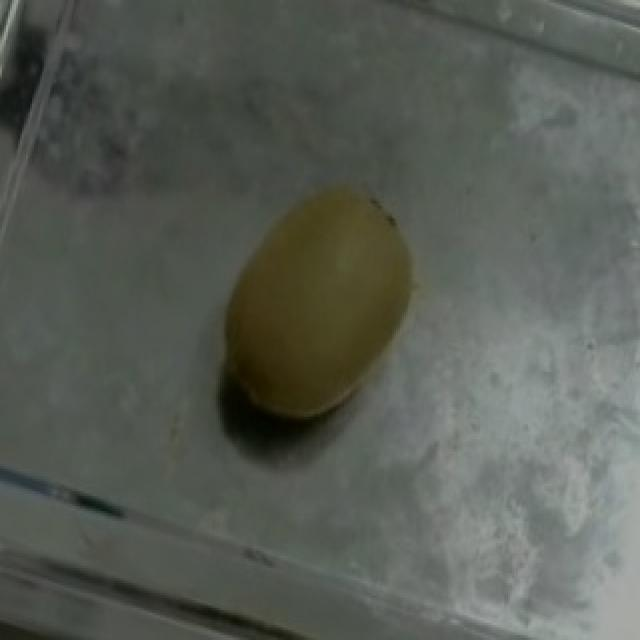Fruit: (178, 154, 460, 471)
